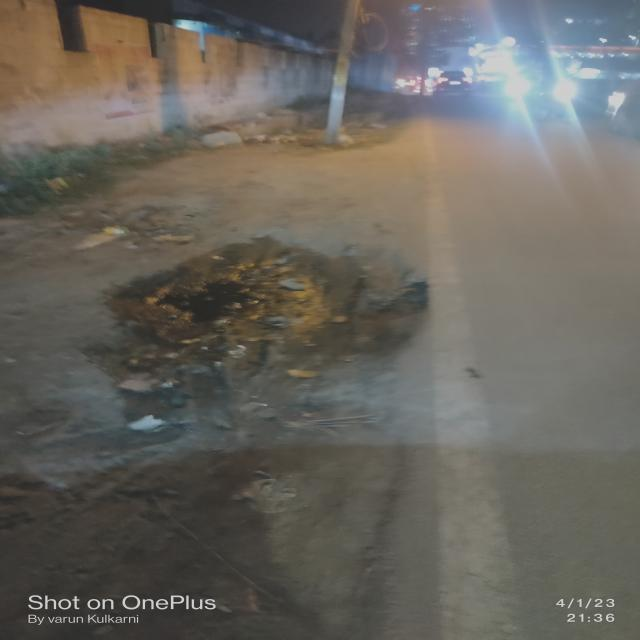Puddle pothole: (126, 231, 444, 406)
potholes: (271, 421, 426, 640)
